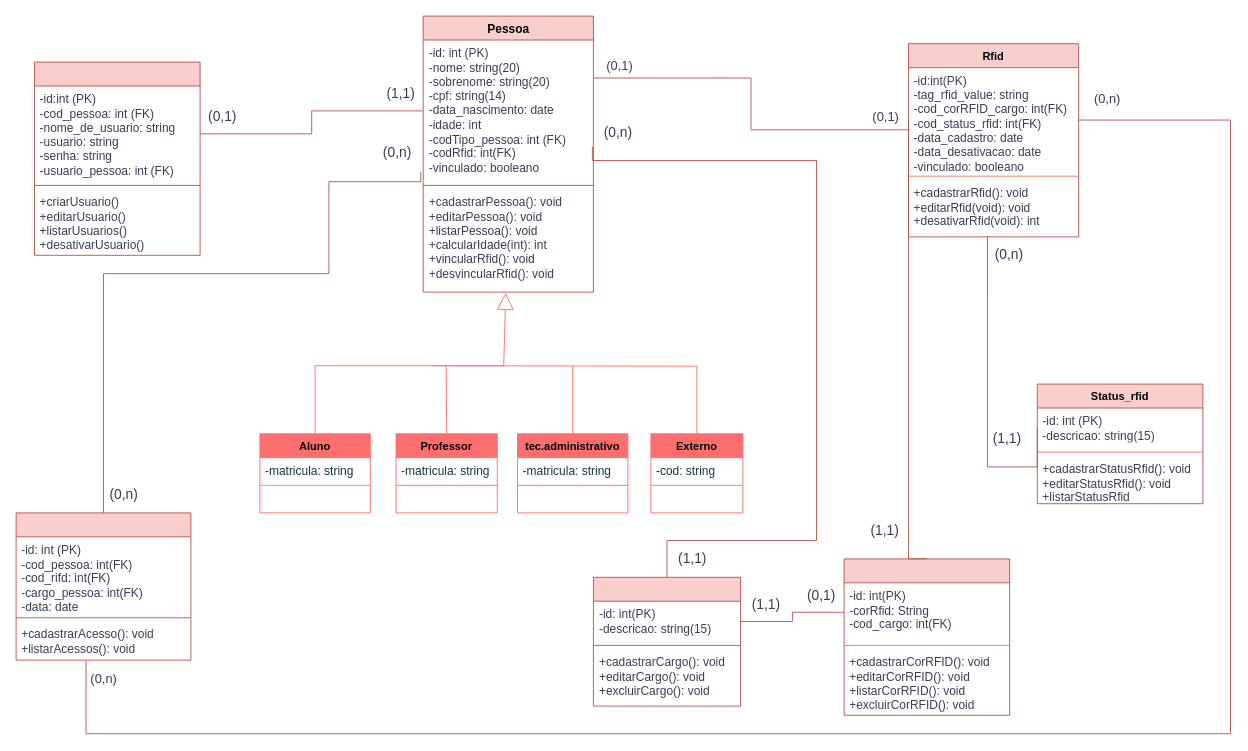
This 1248x751 diagram has some shape labels left out. The box of each missing label's shape, as (x1, y1, x2, y2) in pixels:
CorRFID_cargo: (843, 558, 1010, 715)
Historico_acesso_campus: (15, 512, 191, 660)
Tipo_pessoa: (592, 576, 741, 706)
Usuario_sistema: (34, 61, 200, 255)
